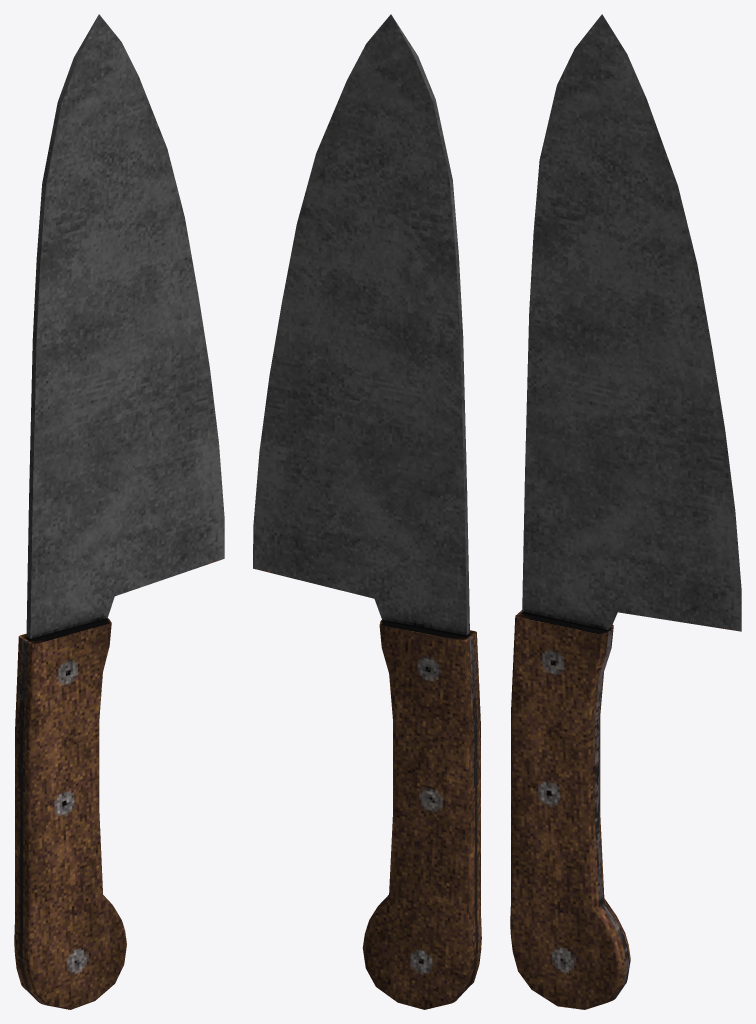
File: knife_002.glb
3 renders of one model, left to right at view 1: azimuth 30°, elevation 25°; view 2: azimuth 150°, elevation 25°; view 3: azimuth 330°, elevation 25°, orthographic.
Visible parts, largest first — view 1: Cube.005; view 2: Cube.005; view 3: Cube.005.
Part boxes in pixels (x1,y1,x2,y2): Cube.005: [14, 14, 224, 1009]; Cube.005: [253, 14, 481, 1009]; Cube.005: [510, 14, 741, 1009].
Bounding box in the file's own units: 0.1848 × 0.81 × 0.0269.
1 material, 1 textured.
